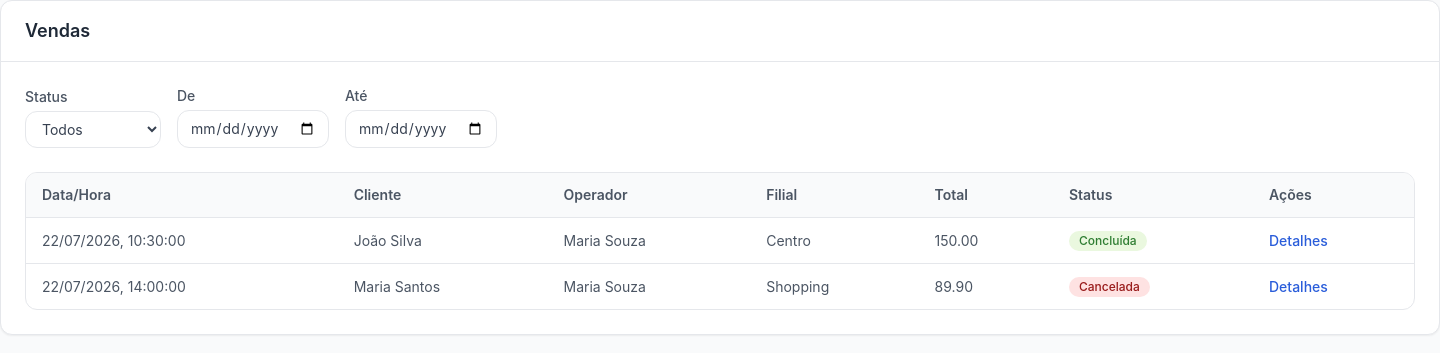
Test: SalesPage › filters by status
Expected: the text "João Silva" is shown, [338,218,548,264]
Select "Cancelada" in the dropdown labelled "Status": (93, 130) [25,111,161,148]
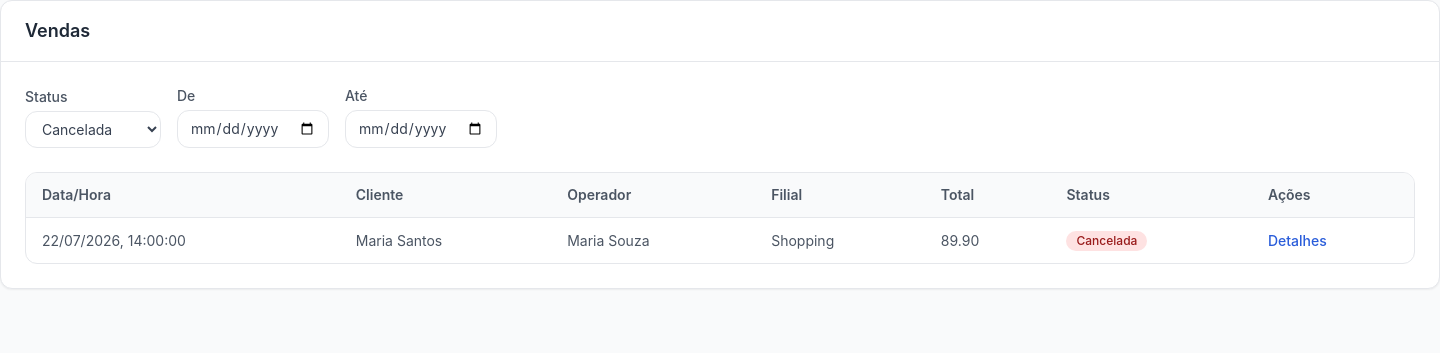
Expected: the text "Maria Santos" is shown, [340,218,551,263]
Now the text "João Silva" is gone
